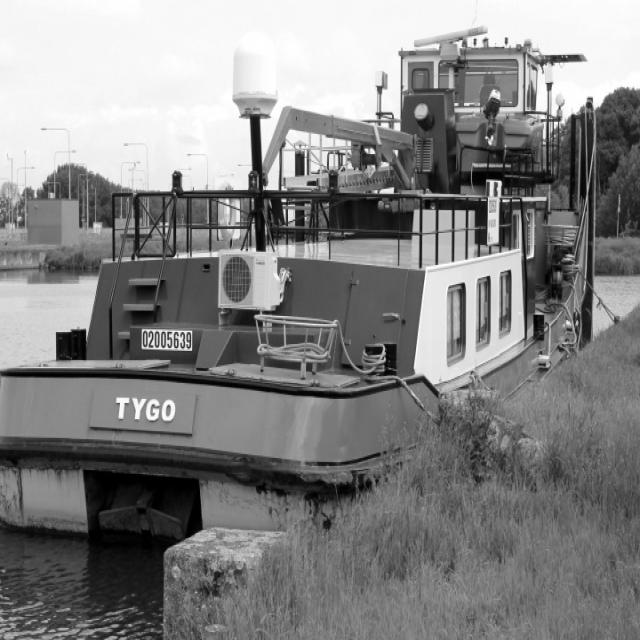tugboat: (1, 1, 605, 562)
